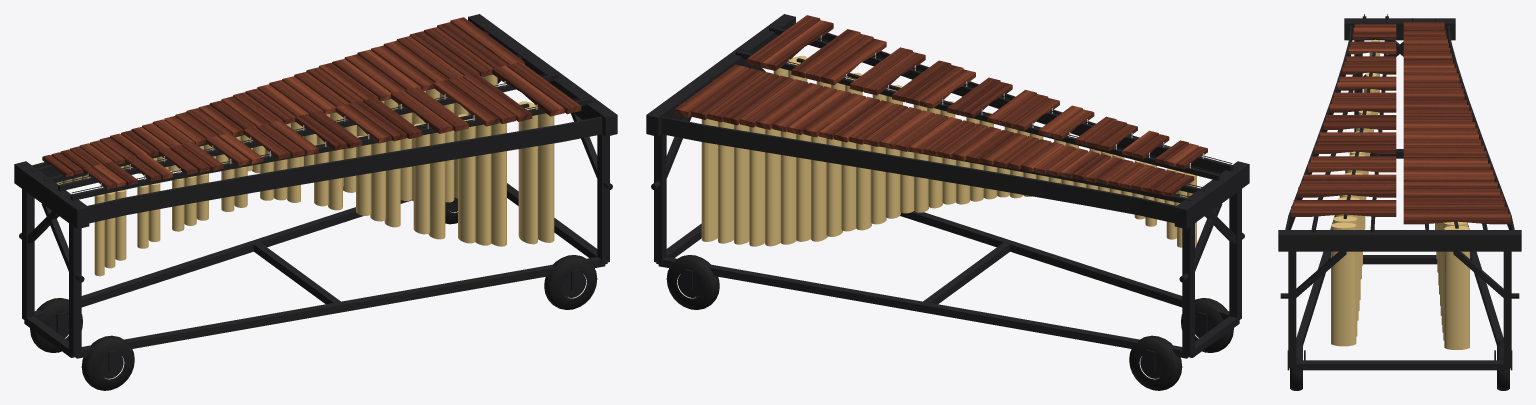
File: marimba-5.0.glb
3 renders of one model, left to right at view 1: azimuth 30°, elevation 25°; view 2: azimuth 150°, elevation 25°; view 3: azimuth 270°, elevation 25°, orthographic. The views are drawn at different scales.
Parts seen in each view (by area): view 1: bars-rosewood, frame, resonators-gold, artwork, rubber; view 2: frame, bars-rosewood, resonators-gold, rubber; view 3: bars-rosewood, frame, resonators-gold, rubber.
Part boxes in pixels (x1,y1,x2,y2): bars-rosewood: (42, 17, 581, 189); frame: (14, 14, 617, 378); resonators-gold: (56, 74, 554, 276); artwork: (89, 118, 602, 223); rubber: (19, 28, 612, 390); frame: (646, 14, 1249, 378); bars-rosewood: (674, 15, 1207, 196); resonators-gold: (701, 55, 1196, 247); rubber: (651, 24, 1244, 390); bars-rosewood: (1291, 22, 1510, 224); frame: (1278, 16, 1521, 370); resonators-gold: (1331, 39, 1469, 349); rubber: (1280, 14, 1519, 390).
Bounding box in the file's own units: 2.54 × 0.982 × 1.21.
6 materials, 1 textured.
